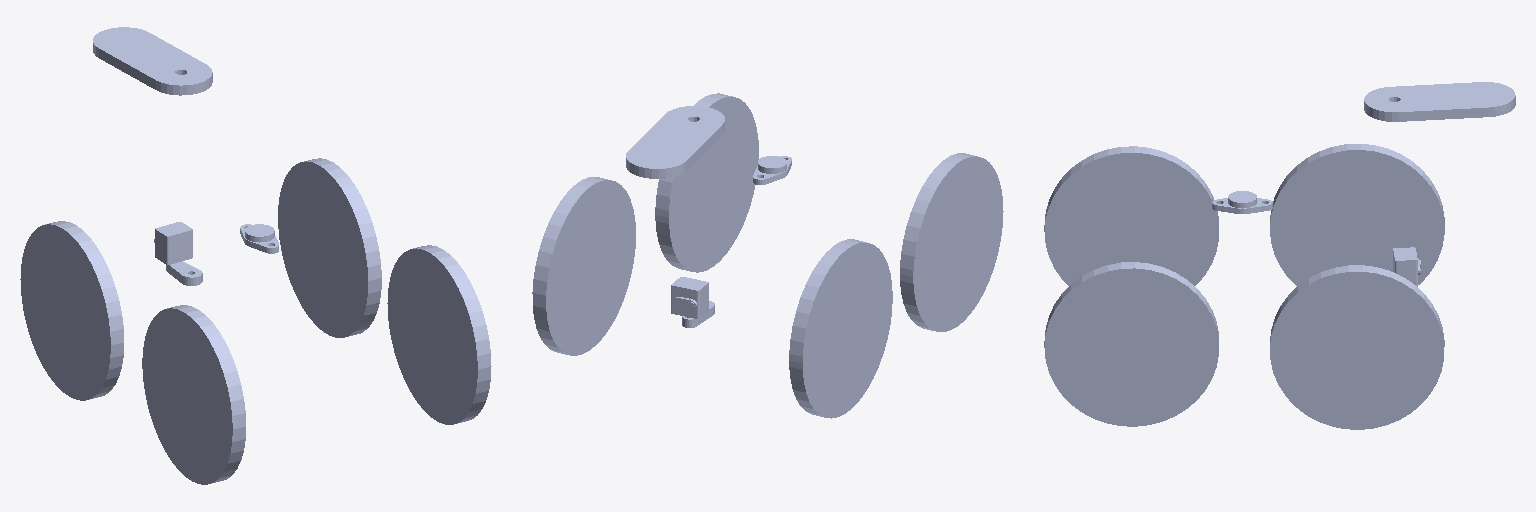
robot.urdf — tank:
<robot
  name="tank">
  <link
    name="base_link">
    <inertial>
      <origin
        xyz="-0.000108524182377716 -0.0902990594185242 0.103208198426333"
        rpy="0 0 0" />
      <mass
        value="0.601600157707464" />
      <inertia
        ixx="0.000505576859179843"
        ixy="1.46950197406681E-08"
        ixz="-8.69613423387717E-12"
        iyy="0.000337220178000293"
        iyz="-1.27464867949561E-07"
        izz="0.000697907468491316" />
    </inertial>
    <visual>
      <origin
        xyz="0 0 0"
        rpy="0 0 0" />
      <geometry>
        <mesh
          filename="package://tank/meshes/base_link.STL" />
      </geometry>
      <material
        name="">
        <color
          rgba="0.298039215686275 0.298039215686275 0.298039215686275 1" />
      </material>
    </visual>
    <collision>
      <origin
        xyz="0 0 0"
        rpy="0 0 0" />
      <geometry>
        <mesh
          filename="package://tank/meshes/base_link.STL" />
      </geometry>
    </collision>
  </link>
  
  <link
    name="right_wheel">
    <inertial>
      <origin
        xyz="0.00499999999999998 2.22044604925031E-16 2.62723870436687E-15"
        rpy="0 0 0" />
      <mass
        value="0.103868907109313" />
      <inertia
        ixx="0.000171708287065082"
        ixy="-7.08934587225641E-19"
        ixz="3.40544321211376E-20"
        iyy="8.67197177584521E-05"
        iyz="-2.7631389141895E-34"
        izz="8.67197177584521E-05" />
    </inertial>
    <visual>
      <origin
        xyz="0 0 0"
        rpy="0 0 0" />
      <geometry>
        <mesh
          filename="package://tank/meshes/right_wheel.STL" />
      </geometry>
      <material
        name="">
        <color
          rgba="0.792156862745098 0.819607843137255 0.933333333333333 1" />
      </material>
    </visual>
    <collision>
      <origin
        xyz="0 0 0"
        rpy="0 0 0" />
      <geometry>
        <mesh
          filename="package://tank/meshes/right_wheel.STL" />
      </geometry>
    </collision>
  </link>
  <joint
    name="rightwheel"
    type="continuous">
    <origin
      xyz="0.0848249872388515 -0.159816940607637 0.0574499999999974"
      rpy="0 0 0" />
    <parent
      link="base_link" />
    <child
      link="right_wheel" />
    <axis
      xyz="1 0 0" />
  </joint>
  <link
    name="left_wheel">
    <inertial>
      <origin
        xyz="-0.00499999999999991 2.4980018054066E-16 -1.56819002228303E-15"
        rpy="0 0 0" />
      <mass
        value="0.103868907109312" />
      <inertia
        ixx="0.000171708287065082"
        ixy="-7.359543827722E-19"
        ixz="1.76742618868712E-21"
        iyy="8.67197177584521E-05"
        iyz="-1.63619081435316E-35"
        izz="8.6719717758452E-05" />
    </inertial>
    <visual>
      <origin
        xyz="0 0 0"
        rpy="0 0 0" />
      <geometry>
        <mesh
          filename="package://tank/meshes/left_wheel.STL" />
      </geometry>
      <material
        name="">
        <color
          rgba="0.792156862745098 0.819607843137255 0.933333333333333 1" />
      </material>
    </visual>
    <collision>
      <origin
        xyz="0 0 0"
        rpy="0 0 0" />
      <geometry>
        <mesh
          filename="package://tank/meshes/left_wheel.STL" />
      </geometry>
    </collision>
  </link>
  <joint
    name="leftwheel"
    type="continuous">
    <origin
      xyz="-0.0851750127611487 -0.159816940607636 0.0574500000000015"
      rpy="0 0 0" />
    <parent
      link="base_link" />
    <child
      link="left_wheel" />
    <axis
      xyz="1 0 0" />
  </joint>
  <link
    name="banh_dan_dong_trai">
    <inertial>
      <origin
        xyz="0.00499999999999998 -5.55111512312578E-17 8.67361737988404E-19"
        rpy="0 0 0" />
      <mass
        value="0.103868907109313" />
      <inertia
        ixx="0.000171708287065082"
        ixy="-7.1690874188323E-19"
        ixz="3.24686946983214E-20"
        iyy="8.67197177584522E-05"
        iyz="-2.8266535187949E-34"
        izz="8.67197177584521E-05" />
    </inertial>
    <visual>
      <origin
        xyz="0 0 0"
        rpy="0 0 0" />
      <geometry>
        <mesh
          filename="package://tank/meshes/banh_dan_dong_trai.STL" />
      </geometry>
      <material
        name="">
        <color
          rgba="0.792156862745098 0.819607843137255 0.933333333333333 1" />
      </material>
    </visual>
    <collision>
      <origin
        xyz="0 0 0"
        rpy="0 0 0" />
      <geometry>
        <mesh
          filename="package://tank/meshes/banh_dan_dong_trai.STL" />
      </geometry>
    </collision>
  </link>
  <joint
    name="banhdandongtrai"
    type="continuous">
    <origin
      xyz="-0.0991750127611473 -0.0116823353048084 0.05755"
      rpy="0 0 0" />
    <parent
      link="base_link" />
    <child
      link="banh_dan_dong_trai" />
    <axis
      xyz="1 0 0" />
  </joint>
  <link
    name="lidar">
    <inertial>
      <origin
        xyz="-1.29757316003065E-15 6.51605505663788E-17 -0.00457887144189027"
        rpy="0 0 0" />
      <mass
        value="0.00319215300114559" />
      <inertia
        ixx="2.18569137230852E-07"
        ixy="4.70988568996397E-22"
        ixz="7.51261257123066E-25"
        iyy="8.69531442161916E-08"
        iyz="4.84629312118416E-24"
        izz="2.7361198023536E-07" />
    </inertial>
    <visual>
      <origin
        xyz="0 0 0"
        rpy="0 0 0" />
      <geometry>
        <mesh
          filename="package://tank/meshes/lidar.STL" />
      </geometry>
      <material
        name="">
        <color
          rgba="0.792156862745098 0.819607843137255 0.933333333333333 1" />
      </material>
    </visual>
    <collision>
      <origin
        xyz="0 0 0"
        rpy="0 0 0" />
      <geometry>
        <mesh
          filename="package://tank/meshes/lidar.STL" />
      </geometry>
    </collision>
  </link>
  <joint
    name="lidar_joint"
    type="fixed">
    <origin
      xyz="-0.000175012761146634 -0.0870967209817709 0.122466815589433"
      rpy="0 0 0" />
    <parent
      link="base_link" />
    <child
      link="lidar" />
    <axis
      xyz="0 0 0" />
  </joint>
  <link
    name="camera">
    <inertial>
      <origin
        xyz="-0.00117819293604169 0.0173989447073359 0.00900130287593785"
        rpy="0 0 0" />
      <mass
        value="0.00827936767688675" />
      <inertia
        ixx="1.08061936654004E-06"
        ixy="1.97042592918232E-08"
        ixz="1.96963583456045E-08"
        iyy="8.2969788252791E-07"
        iyz="-2.82950264207049E-07"
        izz="7.09371776486622E-07" />
    </inertial>
    <visual>
      <origin
        xyz="0 0 0"
        rpy="0 0 0" />
      <geometry>
        <mesh
          filename="package://tank/meshes/camera.STL" />
      </geometry>
      <material
        name="">
        <color
          rgba="0.792156862745098 0.819607843137255 0.933333333333333 1" />
      </material>
    </visual>
    <collision>
      <origin
        xyz="0 0 0"
        rpy="0 0 0" />
      <geometry>
        <mesh
          filename="package://tank/meshes/camera.STL" />
      </geometry>
    </collision>
  </link>
  <joint
    name="camera_joint"
    type="revolute">
    <origin
      xyz="0 0 0.0574668155894326"
      rpy="0 0 0" />
    <parent
      link="base_link" />
    <child
      link="camera" />
    <axis
      xyz="0 0 1" />
    <limit
      lower="-1"
      upper="1"
      effort="5"
      velocity="0.5" />
  </joint>
  <link
    name="prismatic">
    <inertial>
      <origin
        xyz="2.87917391697118E-05 0.0526201488979757 0.00158552735898043"
        rpy="0 0 0" />
      <mass
        value="0.0930996208354306" />
      <inertia
        ixx="0.000168501130943866"
        ixy="2.14940445237952E-11"
        ixz="-3.09659639537977E-08"
        iyy="4.49018685905745E-05"
        iyz="1.64722797721107E-11"
        izz="0.000209740976030147" />
    </inertial>
    <visual>
      <origin
        xyz="0 0 0"
        rpy="0 0 0" />
      <geometry>
        <mesh
          filename="package://tank/meshes/prismatic.STL" />
      </geometry>
      <material
        name="">
        <color
          rgba="0.792156862745098 0.819607843137255 0.933333333333333 1" />
      </material>
    </visual>
    <collision>
      <origin
        xyz="0 0 0"
        rpy="0 0 0" />
      <geometry>
        <mesh
          filename="package://tank/meshes/prismatic.STL" />
      </geometry>
    </collision>
  </link>
  <joint
    name="prismatic_joint"
    type="prismatic">
    <origin
      xyz="-0.000175012761147599 -0.0870967209817715 0.198092664567826"
      rpy="0 0 0" />
    <parent
      link="base_link" />
    <child
      link="prismatic" />
    <axis
      xyz="0 0 1" />
    <limit
      lower="-0.03"
      upper="0.03"
      effort="50"
      velocity="0.01" />
  </joint>
  <link
    name="revolt_joint">
    <inertial>
      <origin
        xyz="-0.00374993354854962 0.0301861089970053 0.0035"
        rpy="0 0 0" />
      <mass
        value="0.0252446010528494" />
      <inertia
        ixx="1.7870968887505E-05"
        ixy="1.81988369150149E-06"
        ixz="2.55836890381603E-25"
        iyy="3.44739955007039E-06"
        iyz="8.11433088326687E-23"
        izz="2.11122041956438E-05" />
    </inertial>
    <visual>
      <origin
        xyz="0 0 0"
        rpy="0 0 0" />
      <geometry>
        <mesh
          filename="package://tank/meshes/revolt_joint.STL" />
      </geometry>
      <material
        name="">
        <color
          rgba="0.792156862745098 0.819607843137255 0.933333333333333 1" />
      </material>
    </visual>
    <collision>
      <origin
        xyz="0 0 0"
        rpy="0 0 0" />
      <geometry>
        <mesh
          filename="package://tank/meshes/revolt_joint.STL" />
      </geometry>
    </collision>
  </link>
  <joint
    name="revoltjoint"
    type="revolute">
    <origin
      xyz="0 0.1 -0.012"
      rpy="0 0 0" />
    <parent
      link="prismatic" />
    <child
      link="revolt_joint" />
    <axis
      xyz="0 0 1" />
    <limit
      lower="-1.57"
      upper="1.57"
      effort="5"
      velocity="0.5" />
  </joint>
  <link
    name="banh_dan_dong_phai">
    <inertial>
      <origin
        xyz="-0.005 4.1633E-17 6.0715E-18"
        rpy="0 0 0" />
      <mass
        value="0.10387" />
      <inertia
        ixx="0.00017171"
        ixy="-7.4092E-19"
        ixz="5.6469E-22"
        iyy="8.672E-05"
        iyz="5.6469E-21"
        izz="8.672E-05" />
    </inertial>
    <visual>
      <origin
        xyz="0 0 0"
        rpy="0 0 0" />
      <geometry>
        <mesh
          filename="package://tank/meshes/banh_dan_dong_phai.STL" />
      </geometry>
      <material
        name="">
        <color
          rgba="0.79216 0.81961 0.93333 1" />
      </material>
    </visual>
    <collision>
      <origin
        xyz="0 0 0"
        rpy="0 0 0" />
      <geometry>
        <mesh
          filename="package://tank/meshes/banh_dan_dong_phai.STL" />
      </geometry>
    </collision>
  </link>
  <joint
    name="banhdandongphai"
    type="continuous">
    <origin
      xyz="0.0998249872388527 -0.0117323353048101 0.0575"
      rpy="0 0 0" />
    <parent
      link="base_link" />
    <child
      link="banh_dan_dong_phai" />
    <axis
      xyz="1 0 0" />
  </joint>
  
</robot>

--- Facts derived from the render (not from the file) ---
The picture shows the robot from 3 angles, left to right: view 1: azimuth 30°, elevation 25°; view 2: azimuth 150°, elevation 25°; view 3: azimuth 270°, elevation 25°; orthographic projection.
Model tank with 9 links and 8 joints (2 revolute, 4 continuous, 1 prismatic, 1 fixed), rooted at base_link, posed every joint at zero.
Visible links, largest first — view 1: banh_dan_dong_phai, left_wheel, right_wheel, banh_dan_dong_trai, revolt_joint, camera, lidar; view 2: banh_dan_dong_phai, banh_dan_dong_trai, left_wheel, right_wheel, revolt_joint, camera, lidar; view 3: banh_dan_dong_phai, right_wheel, left_wheel, banh_dan_dong_trai, revolt_joint, lidar, camera.
Link boxes in pixels (x1,y1,x2,y2): banh_dan_dong_phai: (278,158,381,337); left_wheel: (142,305,245,484); right_wheel: (387,245,491,424); banh_dan_dong_trai: (20,221,123,400); revolt_joint: (93,27,212,95); camera: (154,222,202,285); lidar: (240,224,278,253); banh_dan_dong_phai: (532,177,635,355); banh_dan_dong_trai: (789,239,892,418); left_wheel: (900,153,1003,331); right_wheel: (655,93,758,272); revolt_joint: (626,106,724,178); camera: (671,277,714,327); lidar: (753,156,791,184); banh_dan_dong_phai: (1270,265,1444,429); right_wheel: (1044,262,1218,426); left_wheel: (1044,146,1218,285); banh_dan_dong_trai: (1270,144,1444,285); revolt_joint: (1364,82,1515,121); lidar: (1212,191,1272,213); camera: (1393,247,1420,286).
Bounding box of the posed robot: 0.199 × 0.3097 × 0.1931 m (x, y, z).
7 mesh visuals loaded from 9 distinct referenced files (7 binary STL); not drawn: 2 (reference not matched to a file when rendering).
